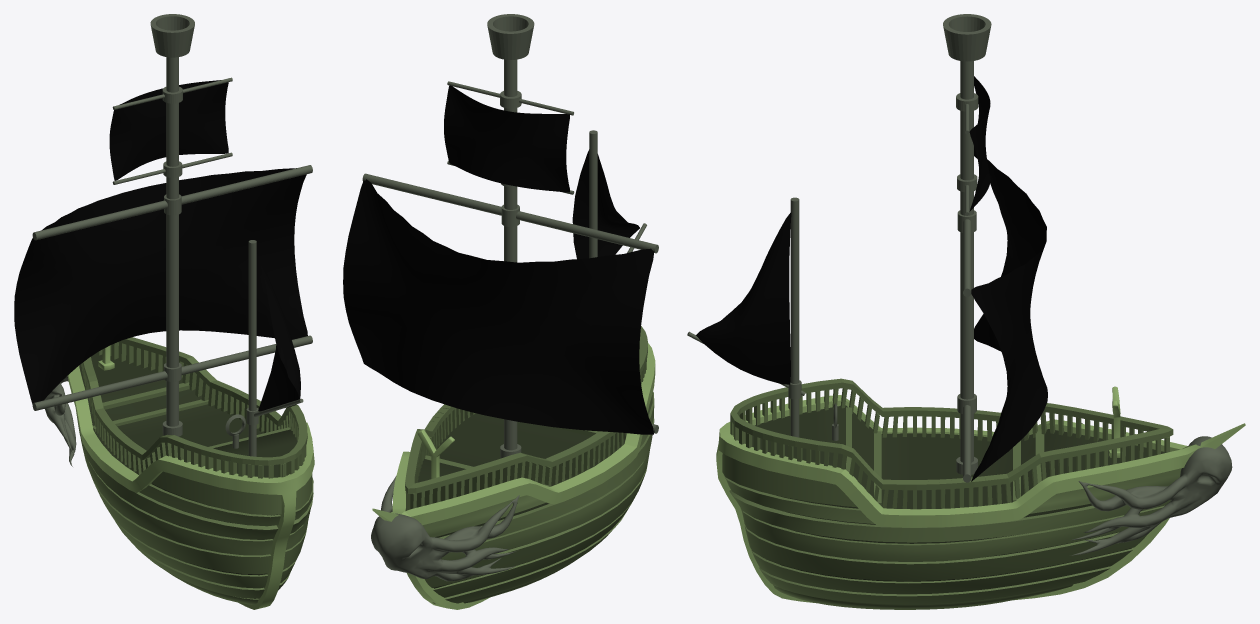
File: Ship1.fbx
The picture shows the model from 3 angles, left to right: view 1: azimuth 30°, elevation 25°; view 2: azimuth 150°, elevation 25°; view 3: azimuth 270°, elevation 25°; orthographic projection. The views are drawn at different scales.
Visible parts, largest first — view 1: PlayerShip; view 2: PlayerShip; view 3: PlayerShip.
Boxes of the visible parts, x1=… form: PlayerShip: x1=14, y1=14, x2=314, y2=609; PlayerShip: x1=343, y1=14, x2=658, y2=609; PlayerShip: x1=687, y1=14, x2=1245, y2=609.
Bounding box in the file's own units: 2.47 × 4.47 × 3.92.
